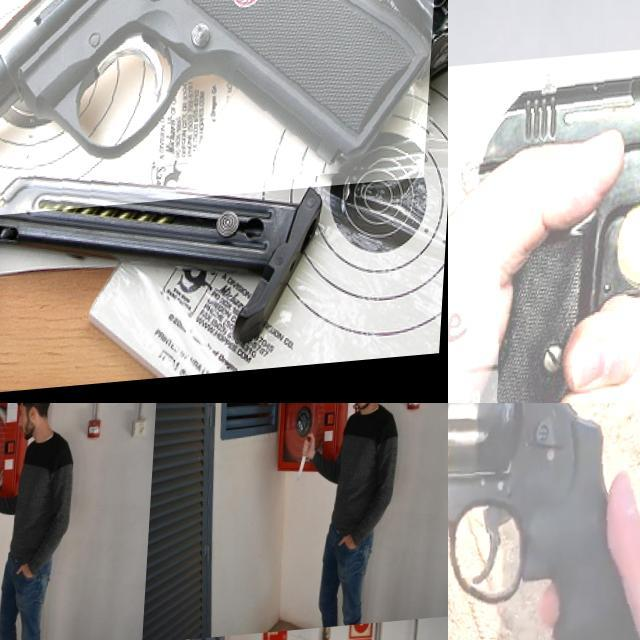-: (298, 440, 313, 492), (0, 469, 10, 500)
gun-knife-thesis - v11 Yolov5 augmented: (0, 0, 448, 230), (448, 41, 640, 403), (448, 403, 640, 640)
